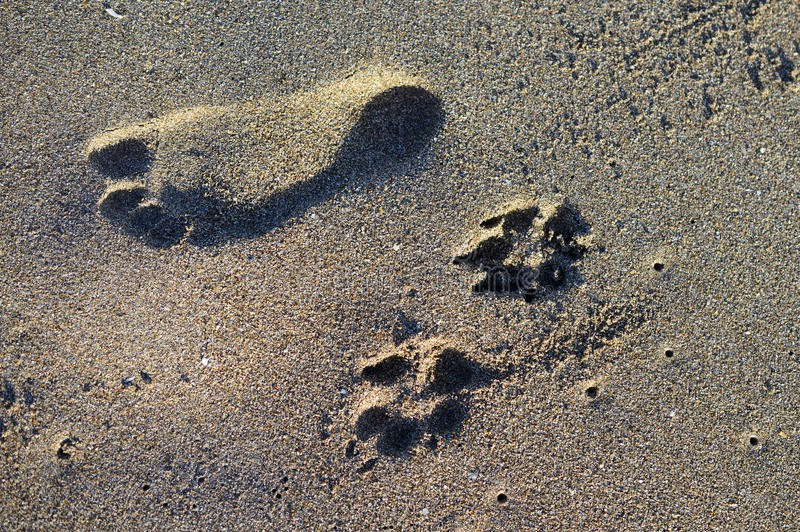human_footprint: (65, 55, 439, 255), (330, 338, 499, 465), (461, 180, 594, 311)
